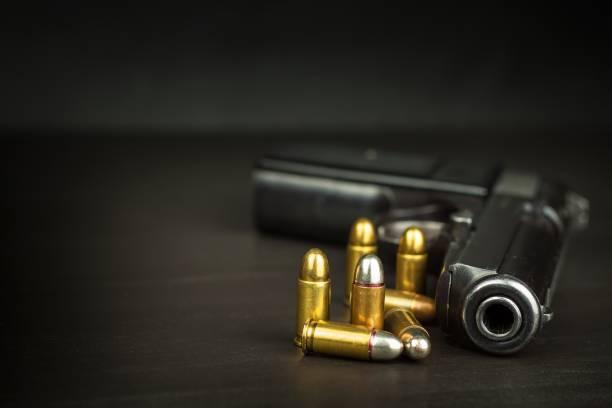weapon: (249, 129, 592, 359)
